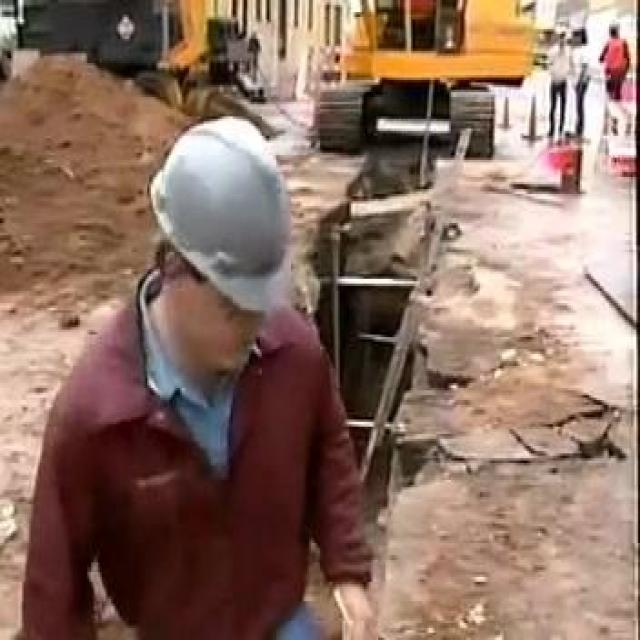Safety-Helmet: (140, 104, 320, 318)
